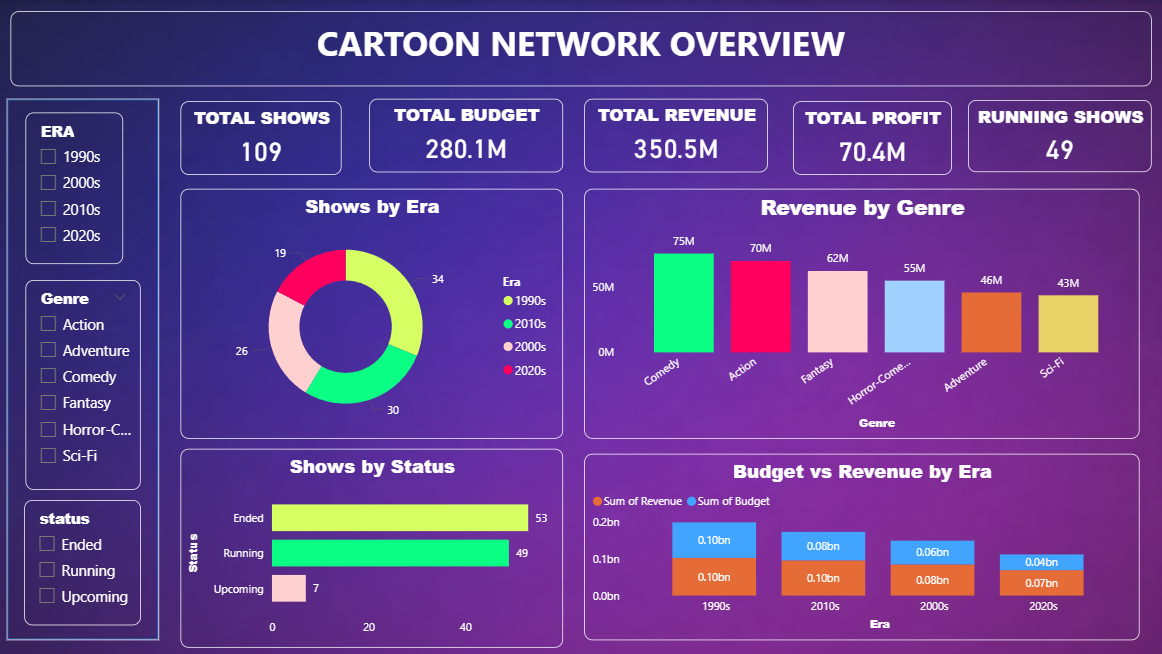

The dashboard page shown, as its layout file describes it:
{"tool":"powerbi","page":{"name":"Page 1","canvas":[1280,720],"ordinal":0},"visuals":[{"type":"textbox","box":[13.7,12.3,1252.8,82.3],"z":0},{"type":"card","title":"TOTAL SHOWS","fields":{"Values":["cartoon network.TOTAL SHOWS"]},"box":[200.3,111.1,177,81],"z":1000},{"type":"card","title":"TOTAL BUDGET","fields":{"Values":["Sum(cartoon network.Budget)"]},"box":[407.5,108.4,212.7,81],"z":2000},{"type":"card","title":"TOTAL REVENUE","fields":{"Values":["Sum(cartoon network.Revenue)"]},"box":[643.6,108.4,201.7,81],"z":3000},{"type":"card","title":"TOTAL PROFIT","fields":{"Values":["Sum(cartoon network.PROFIT)"]},"box":[872.7,111.1,174.3,81],"z":4000},{"type":"card","title":"RUNNING SHOWS","fields":{"Values":["cartoon network.RUNNING SHOWS"]},"box":[1064.8,109.8,201.7,79.6],"z":5000},{"type":"shape","box":[9.6,108.4,167.4,594.2],"z":6000},{"type":"slicer","fields":{"Values":["cartoon network.Era"]},"box":[30.2,123.5,107,166],"z":7000},{"type":"slicer","fields":{"Values":["cartoon network.Genre"]},"box":[30.2,307.4,126.2,230.5],"z":8000},{"type":"slicer","fields":{"Values":["cartoon network.Status"]},"box":[28.8,548.9,127.6,137.2],"z":9000},{"type":"donutChart","title":"Shows by Era","fields":{"Category":["cartoon network.Era"],"Y":["cartoon network.TOTAL SHOWS"]},"box":[200.3,207.2,419.9,274.4],"z":10000},{"type":"clusteredColumnChart","title":"Revenue by Genre","fields":{"Category":["cartoon network.Genre"],"Y":["Sum(cartoon network.Revenue)"]},"box":[643.6,207.2,609.3,274.4],"z":11000},{"type":"columnChart","title":"Budget vs Revenue by Era","fields":{"Category":["cartoon network.Era"],"Y":["Sum(cartoon network.Revenue)","Sum(cartoon network.Budget)"]},"box":[643.6,498.1,609.3,204.5],"z":12000},{"type":"barChart","title":"Shows by Status","fields":{"Category":["cartoon network.Status"],"Y":["cartoon network.TOTAL SHOWS"]},"box":[200.3,492.6,419.9,218.2],"z":13000}]}

Visuals, with their boxes in screenshot pixels (x1, y1, x2, y2), scaled from the page's 1280x720 canvas onto the 1162x654 screenshot:
textbox: x1=12 y1=11 x2=1150 y2=86
"TOTAL SHOWS" card: x1=182 y1=101 x2=343 y2=174
"TOTAL BUDGET" card: x1=370 y1=98 x2=563 y2=172
"TOTAL REVENUE" card: x1=584 y1=98 x2=767 y2=172
"TOTAL PROFIT" card: x1=792 y1=101 x2=950 y2=174
"RUNNING SHOWS" card: x1=967 y1=100 x2=1150 y2=172
shape: x1=9 y1=98 x2=161 y2=638
slicer - cartoon network.Era: x1=27 y1=112 x2=125 y2=263
slicer - cartoon network.Genre: x1=27 y1=279 x2=142 y2=489
slicer - cartoon network.Status: x1=26 y1=499 x2=142 y2=623
"Shows by Era" donutChart: x1=182 y1=188 x2=563 y2=437
"Revenue by Genre" clusteredColumnChart: x1=584 y1=188 x2=1137 y2=437
"Budget vs Revenue by Era" columnChart: x1=584 y1=452 x2=1137 y2=638
"Shows by Status" barChart: x1=182 y1=447 x2=563 y2=646
